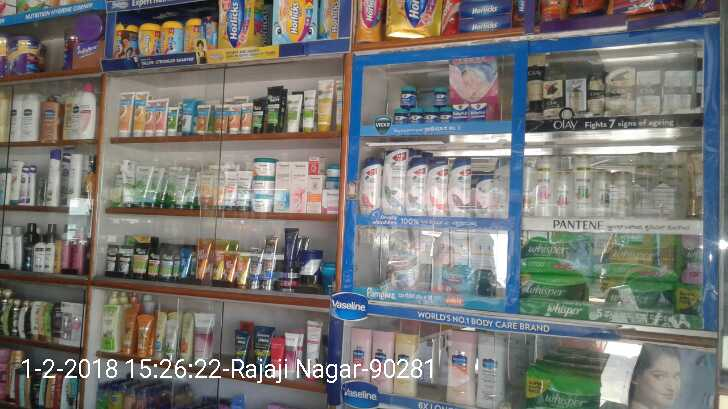beauty: (377, 143, 408, 215), (605, 58, 631, 113), (469, 159, 492, 218), (631, 66, 658, 116), (423, 161, 447, 217), (358, 155, 381, 212), (449, 156, 472, 213), (403, 155, 424, 215), (522, 52, 546, 100), (661, 70, 693, 106), (566, 77, 586, 117)
pharmacy: (523, 363, 598, 409), (607, 231, 678, 278), (520, 230, 591, 276), (604, 278, 672, 312), (521, 270, 584, 302), (399, 83, 416, 109), (465, 99, 485, 121), (429, 86, 447, 105), (389, 108, 407, 125), (452, 103, 468, 122), (408, 108, 423, 127), (439, 107, 452, 123), (422, 109, 435, 124)
